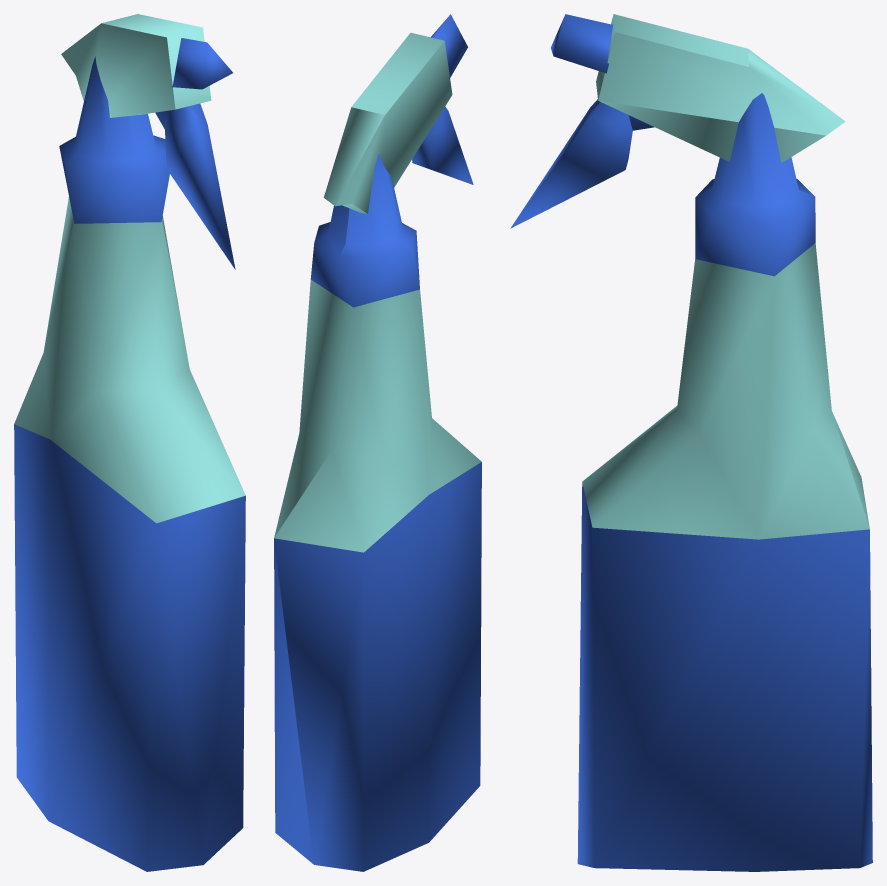
File: clean 1.fbx
The picture shows the model from 3 angles, left to right: view 1: azimuth 30°, elevation 25°; view 2: azimuth 150°, elevation 25°; view 3: azimuth 270°, elevation 25°; orthographic projection. The views are drawn at different scales.
Visible parts, largest first — view 1: Circle; view 2: Circle; view 3: Circle.
Part boxes in pixels (<box>): Circle: <box>14,14,245,871</box>; Circle: <box>274,14,481,871</box>; Circle: <box>510,14,872,871</box>.
Bounding box in the file's own units: 0.8197 × 4.67 × 1.81.
